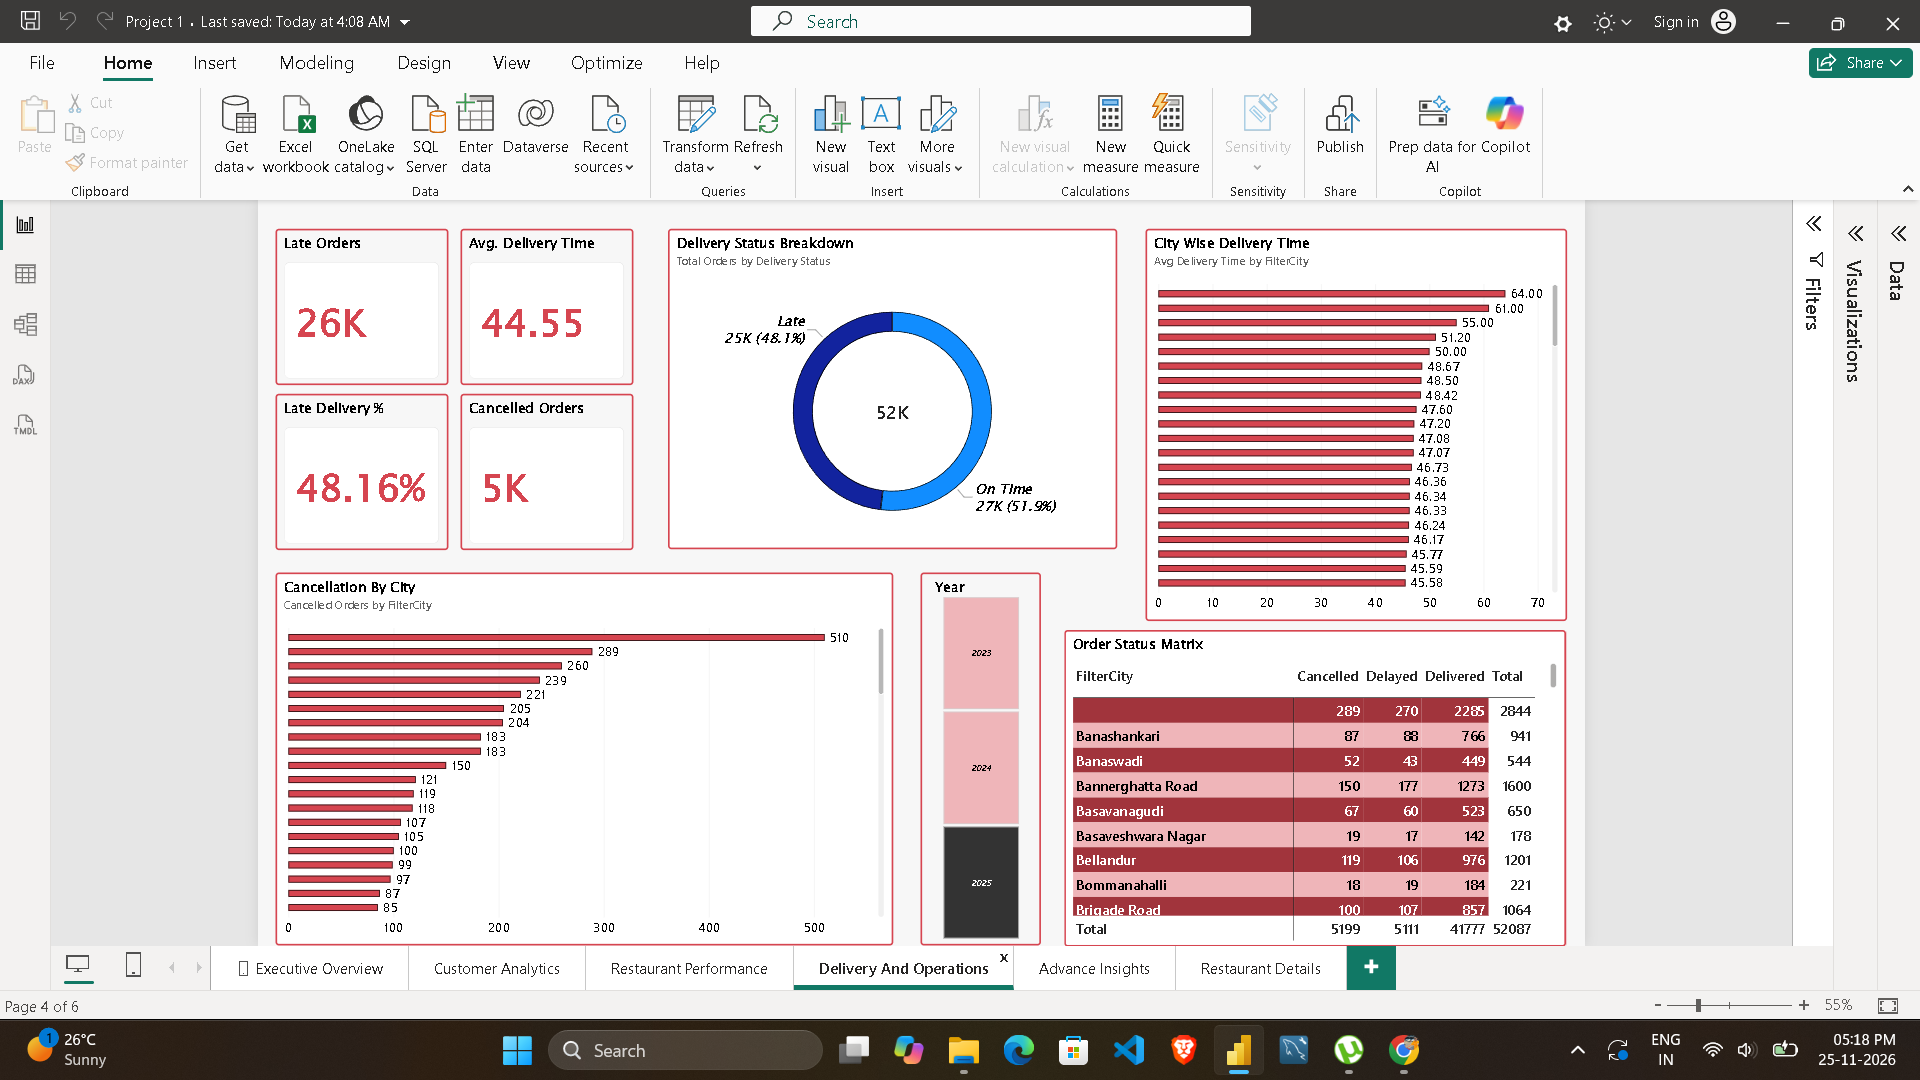

The page's visual inventory and layout, read from the dashboard file:
{"tool":"powerbi","page":{"name":"Delivery And Operations","canvas":[1920,1080],"ordinal":3},"visuals":[{"type":"cardVisual","title":"Late Orders","fields":{"Data":["Orders.Late Orders"]},"box":[26,42,250,226],"z":0},{"type":"cardVisual","title":"Late Delivery %","fields":{"Data":["Orders.Late Delivery %"]},"box":[26,280,250,226],"z":1000},{"type":"cardVisual","title":"Avg. Delivery TIme","fields":{"Data":["Orders.Avg Delivery Time"]},"box":[294,42,250,226],"z":2000},{"type":"cardVisual","title":"Cancelled Orders","fields":{"Data":["Orders.Cancelled Orders"]},"box":[294,280,250,226],"z":3000},{"type":"barChart","title":"City Wise Delivery Time","fields":{"Category":["Customers.FilterCity"],"Y":["Orders.Avg Delivery Time"]},"box":[1284,42,610,568],"z":4000},{"type":"donutChart","title":"Delivery Status Breakdown","fields":{"Category":["Orders.Delivery Status"],"Y":["Orders.Total Orders"]},"box":[594,42,650,464],"z":5000},{"type":"barChart","title":"Cancellation By City","fields":{"Category":["Customers.FilterCity"],"Y":["Orders.Cancelled Orders"]},"box":[26,540,894,540],"z":6000},{"type":"pivotTable","title":"Order Status Matrix","fields":{"Columns":["Orders.OrderStatus"],"Rows":["Customers.FilterCity"],"Values":["Orders.Total Orders"]},"box":[1168,622,726,458],"z":7000},{"type":"slicer","fields":{"Values":["DateTable.Year"]},"box":[960,540,174,540],"z":7001}]}

Visuals, with their boxes on the page's 1920x1080 design canvas (x1, y1, x2, y2). These are canvas units, not pixel positions in the 1920x1080 screenshot, which may show the page scaled, cropped or inside an application window:
"Late Orders" cardVisual: locate(26, 42, 276, 268)
"Late Delivery %" cardVisual: locate(26, 280, 276, 506)
"Avg. Delivery TIme" cardVisual: locate(294, 42, 544, 268)
"Cancelled Orders" cardVisual: locate(294, 280, 544, 506)
"City Wise Delivery Time" barChart: locate(1284, 42, 1894, 610)
"Delivery Status Breakdown" donutChart: locate(594, 42, 1244, 506)
"Cancellation By City" barChart: locate(26, 540, 920, 1080)
"Order Status Matrix" pivotTable: locate(1168, 622, 1894, 1080)
slicer - DateTable.Year: locate(960, 540, 1134, 1080)
